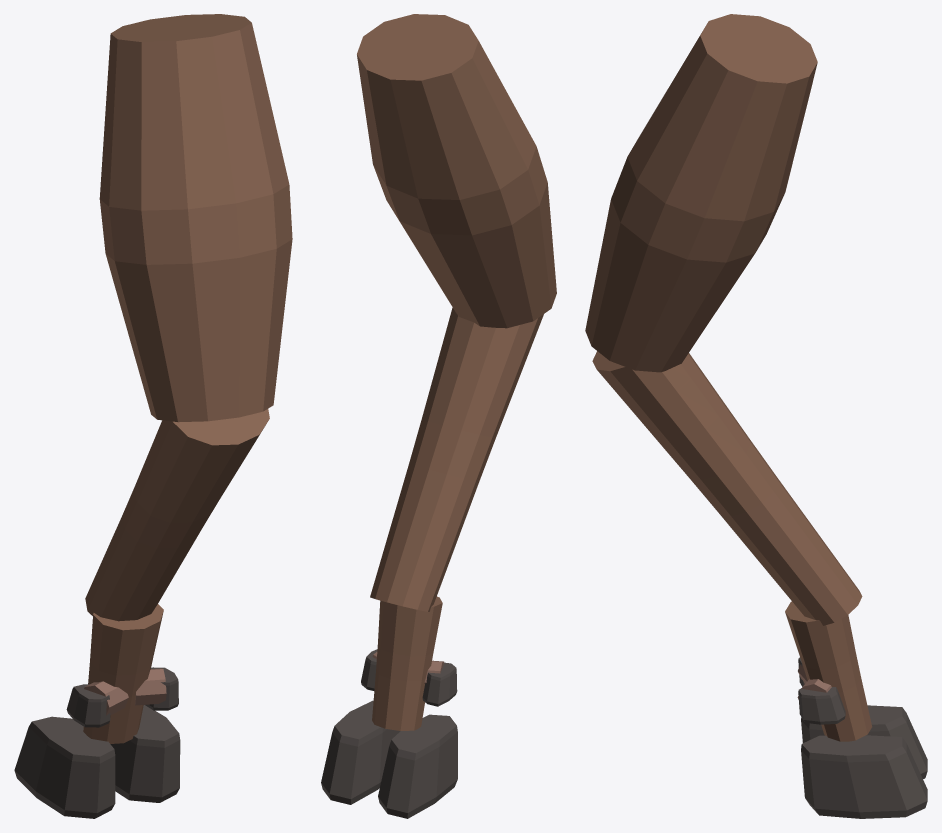
File: FrontL.glb
3 renders of one model, left to right at view 1: azimuth 30°, elevation 25°; view 2: azimuth 150°, elevation 25°; view 3: azimuth 270°, elevation 25°, orthographic. The views are drawn at different scales.
Parts seen in each view (by area): view 1: FrontLUpper, FrontLLower, FrontLClove0, FrontLPastern, FrontLClove1, FrontLDewclaw2, FrontLDewclawMount3, FrontLDewclawMount2, FrontLDewclaw3; view 2: FrontLUpper, FrontLLower, FrontLPastern, FrontLClove0, FrontLClove1, FrontLDewclaw2, FrontLDewclaw3; view 3: FrontLUpper, FrontLLower, FrontLClove1, FrontLPastern, FrontLClove0, FrontLDewclaw3.
Boxes of the visible parts, x1,y1,x2,y2 form: FrontLUpper: [99, 14, 292, 422]; FrontLLower: [85, 409, 269, 621]; FrontLClove0: [14, 716, 115, 818]; FrontLPastern: [83, 604, 163, 743]; FrontLClove1: [110, 705, 180, 802]; FrontLDewclaw2: [66, 684, 110, 727]; FrontLDewclawMount3: [135, 668, 166, 705]; FrontLDewclawMount2: [84, 681, 128, 715]; FrontLDewclaw3: [145, 667, 178, 710]; FrontLUpper: [357, 14, 556, 328]; FrontLLower: [370, 307, 543, 611]; FrontLPastern: [372, 596, 442, 730]; FrontLClove0: [378, 714, 457, 818]; FrontLClove1: [321, 700, 400, 804]; FrontLDewclaw2: [422, 662, 457, 706]; FrontLDewclaw3: [361, 649, 377, 690]; FrontLUpper: [585, 14, 817, 372]; FrontLLower: [592, 351, 862, 625]; FrontLClove1: [801, 735, 927, 818]; FrontLPastern: [785, 601, 872, 741]; FrontLClove0: [801, 705, 927, 778]; FrontLDewclaw3: [798, 687, 845, 724].
Size of the model in its own units: 0.2769 by 1.24 by 0.502.
